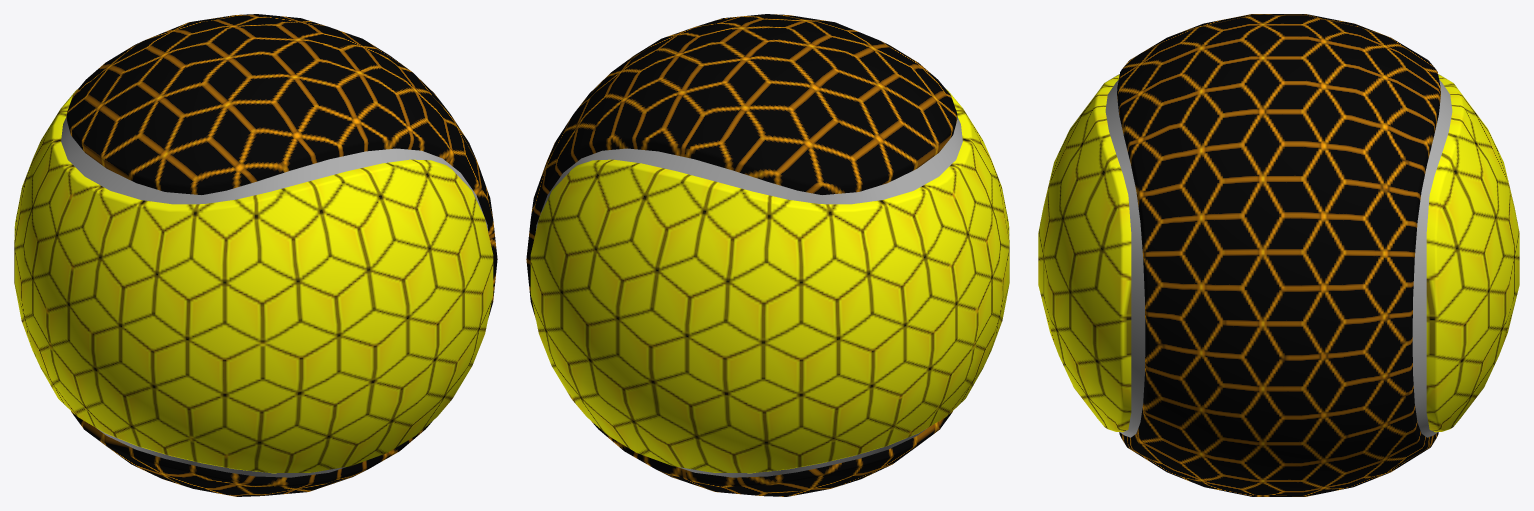
File: ball1.fbx
The picture shows the model from 3 angles, left to right: view 1: azimuth 30°, elevation 25°; view 2: azimuth 150°, elevation 25°; view 3: azimuth 270°, elevation 25°; orthographic projection.
Parts seen in each view (by area): view 1: ball1; view 2: ball1; view 3: ball1.
Boxes of the visible parts, box(x1,y1,x2,y2) form: ball1: box(14, 14, 497, 496); ball1: box(526, 14, 1009, 496); ball1: box(1038, 14, 1519, 496).
Size of the model in its own units: 30.39 by 30.24 by 30.24.
1 material, 1 textured.
